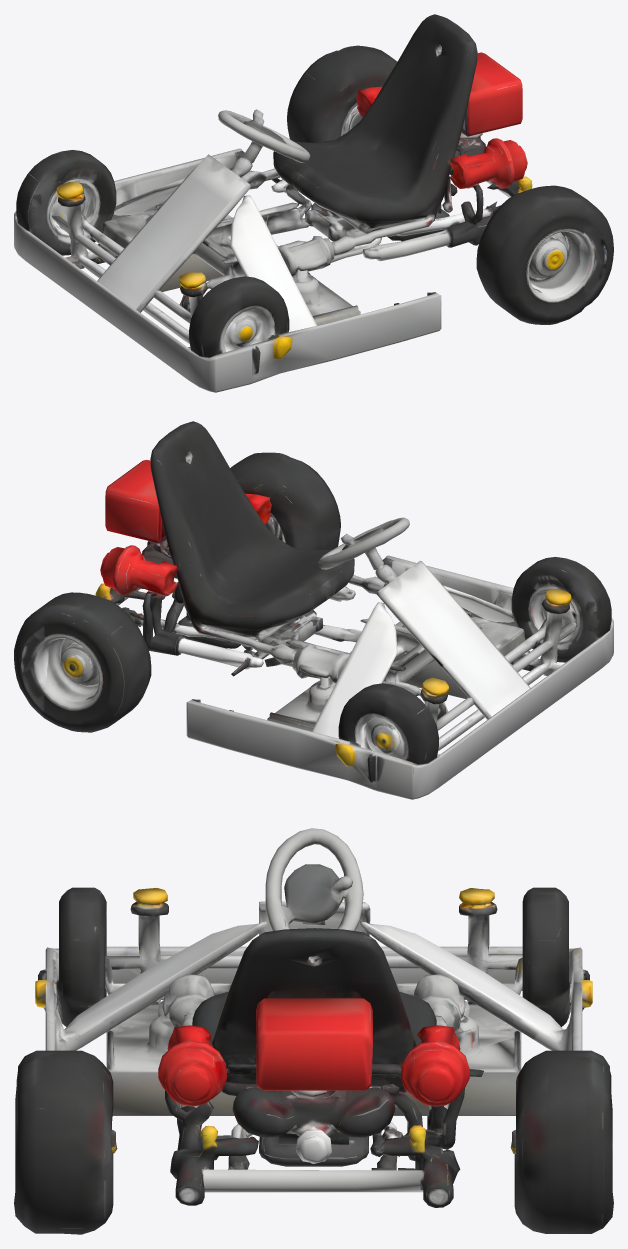
Rendered from kart.glb.
The picture shows the model from 3 angles, top to bottom: view 1: azimuth 30°, elevation 25°; view 2: azimuth 150°, elevation 25°; view 3: azimuth 270°, elevation 25°; orthographic projection. The views are drawn at different scales.
Bounding box in the file's own units: 2 × 1.02 × 1.87.
1 material, 1 textured.
